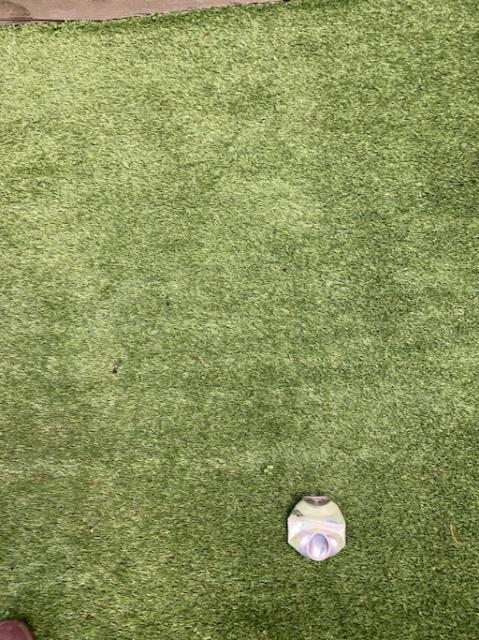metal: (287, 495, 344, 559)
